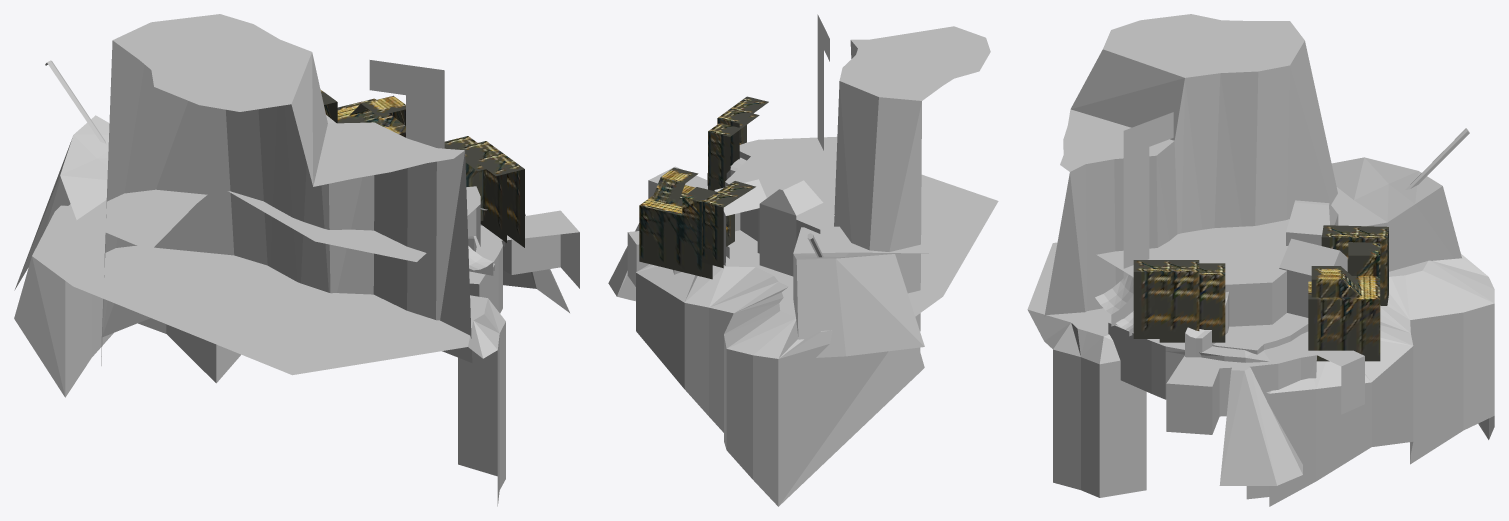
The model's file is T_Repositorium_01.fbx.
3 renders of one model, left to right at view 1: azimuth 30°, elevation 25°; view 2: azimuth 150°, elevation 25°; view 3: azimuth 270°, elevation 25°, orthographic. The views are drawn at different scales.
Visible parts, largest first — view 1: T_Repositorium_01, T_BuildForm_02 (5), T_BuildForm_01, T_BuildForm_02 (4); view 2: T_Repositorium_01, T_BuildForm_01, T_BuildForm_02 (6), T_BuildForm_02 (4), T_BuildForm_02 (5); view 3: T_Repositorium_01, T_BuildForm_01, T_BuildForm_02 (5), T_BuildForm_02 (4), T_BuildForm_02 (6).
Boxes of the visible parts, x1=… form: T_Repositorium_01: x1=14, y1=14, x2=579, y2=506; T_BuildForm_02 (5): x1=457, y1=141, x2=524, y2=247; T_BuildForm_01: x1=320, y1=89, x2=405, y2=137; T_BuildForm_02 (4): x1=444, y1=136, x2=506, y2=242; T_Repositorium_01: x1=608, y1=14, x2=998, y2=506; T_BuildForm_01: x1=639, y1=167, x2=716, y2=279; T_BuildForm_02 (6): x1=702, y1=181, x2=755, y2=268; T_BuildForm_02 (4): x1=708, y1=113, x2=759, y2=190; T_BuildForm_02 (5): x1=717, y1=96, x2=768, y2=165; T_Repositorium_01: x1=1027, y1=14, x2=1494, y2=506; T_BuildForm_01: x1=1308, y1=242, x2=1380, y2=361; T_BuildForm_02 (5): x1=1133, y1=260, x2=1199, y2=338; T_BuildForm_02 (4): x1=1159, y1=263, x2=1225, y2=342; T_BuildForm_02 (6): x1=1321, y1=225, x2=1388, y2=305.
Bounding box in the file's own units: 16.12 × 15.17 × 16.44.
